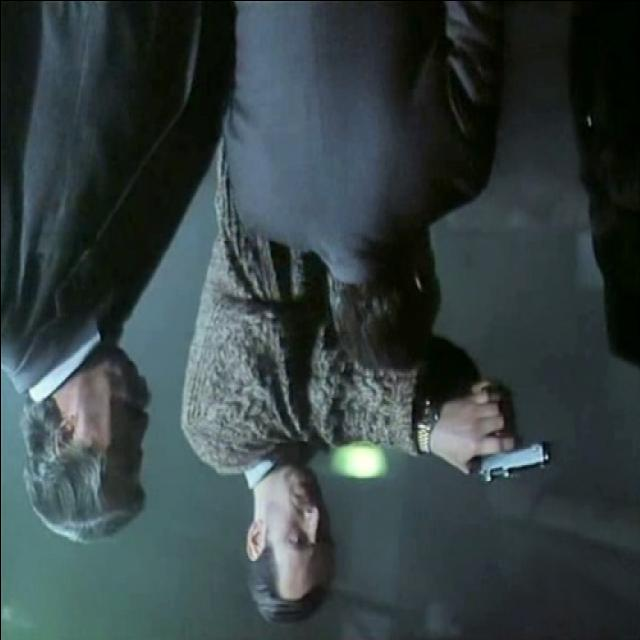weapons: (456, 389, 562, 498)
